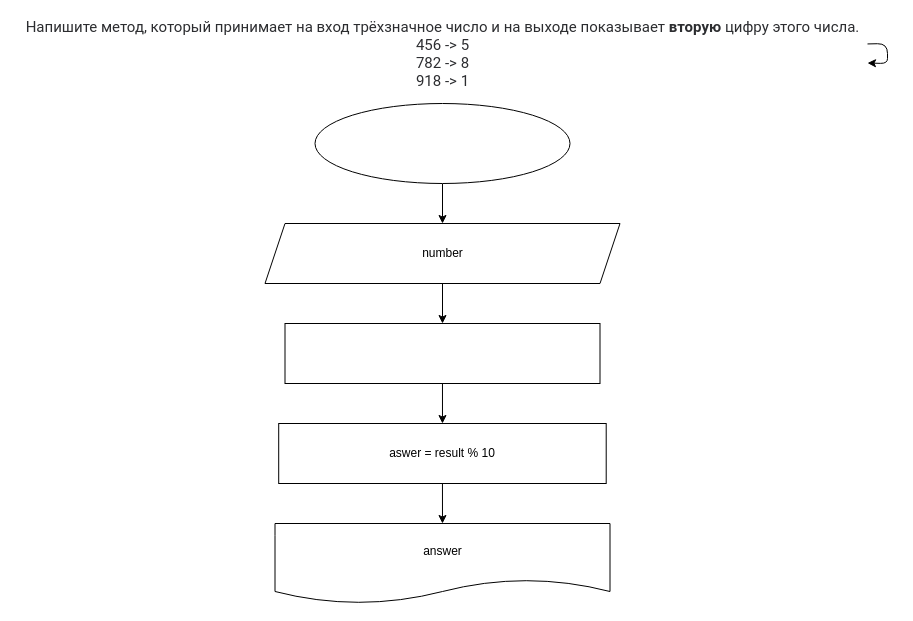
This 913x621 diagram has some shape labels left out. The shapes that lost their labels are listed below. From the top down, each one's centre as x and y in pixels, then its label:
(x=442, y=143): start
(x=442, y=353): result = number / 10
